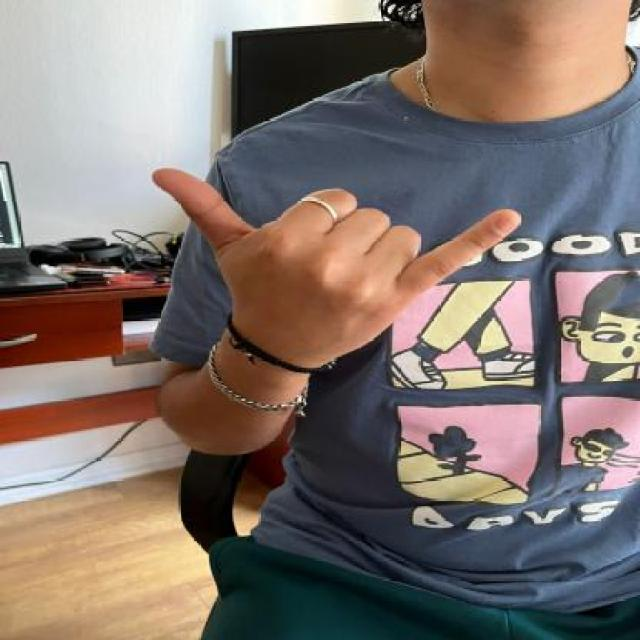Y: (150, 159, 525, 370)
